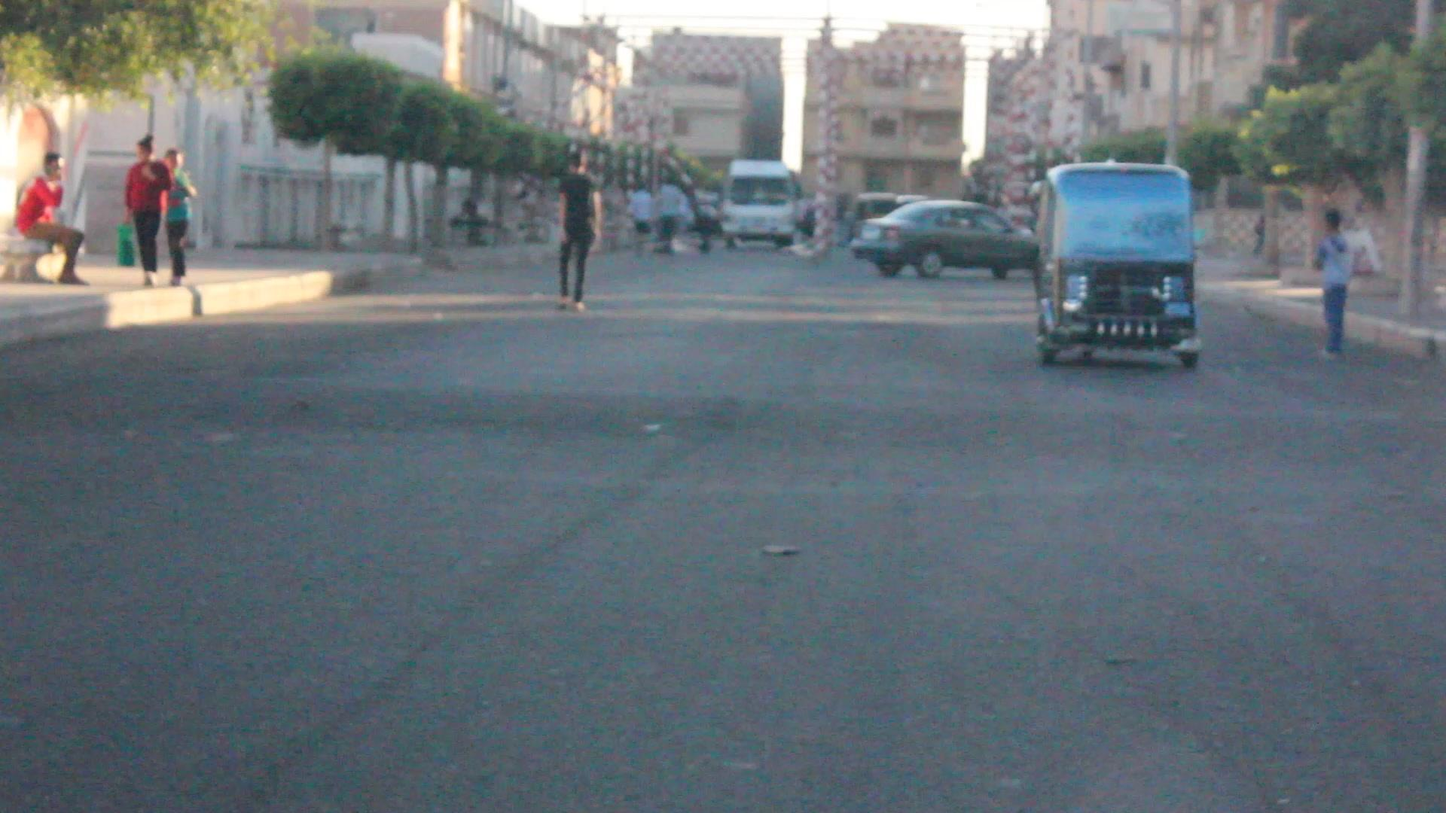Bump: (0, 388, 1446, 474)
